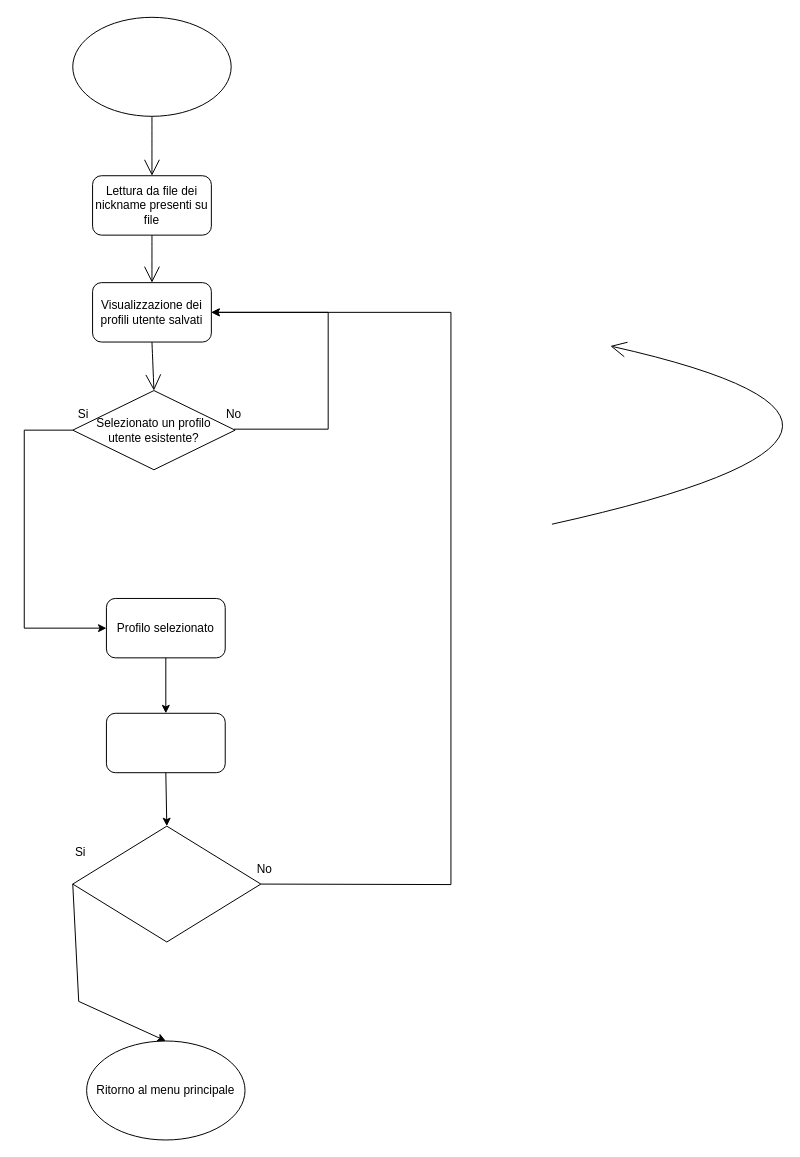
Some shapes in this 800 by 1157 pixel diagram are drawn without their labels. The box of each missing label's shape, as (x1, y1, x2, y2) in pixels:
Sei sicuro di volere utilizzare il profilo utente selezionato?: (72, 825, 261, 942)
Selezione profilo utente: (72, 16, 231, 116)
Tasto torna indietro: (105, 712, 225, 773)
